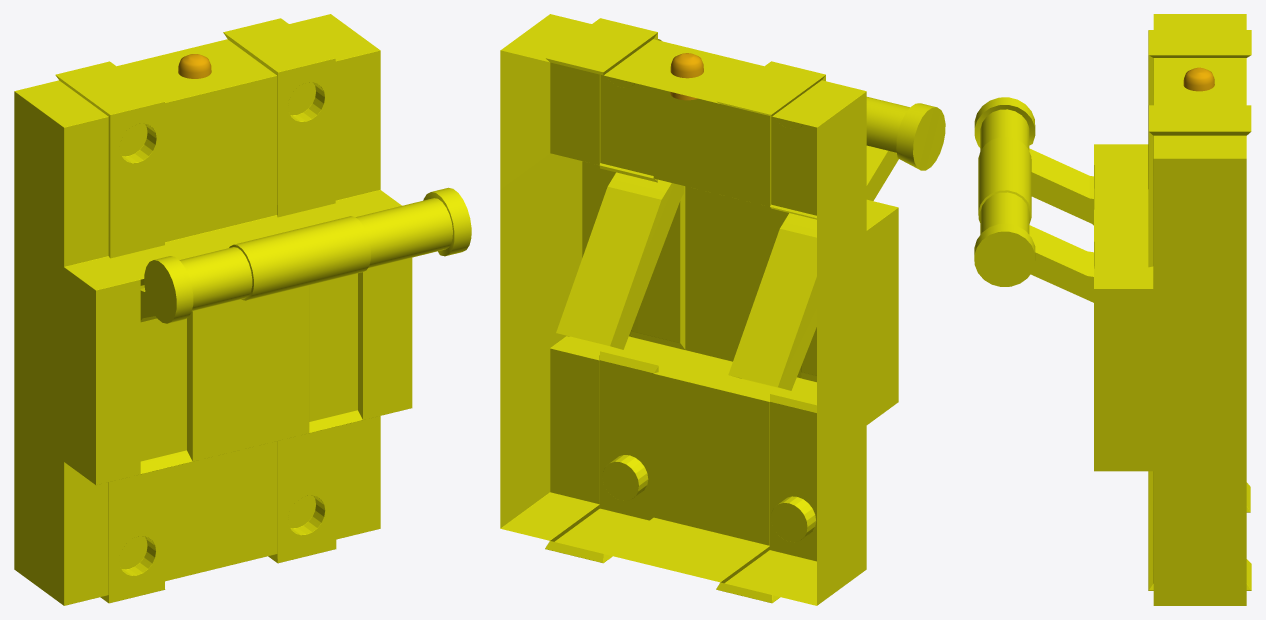
File: Circuit 2.fbx
3 views of the same model, side by side, from view 1: azimuth 30°, elevation 25°; view 2: azimuth 150°, elevation 25°; view 3: azimuth 270°, elevation 25° (orthographic). The views are drawn at different scales.
Parts seen in each view (by area): view 1: CircuitBreaker2, CircuitHandle; view 2: CircuitBreaker2, CircuitHandle; view 3: CircuitBreaker2, CircuitHandle.
Part boxes in pixels (x1=…): CircuitBreaker2: x1=14, y1=14, x2=412, y2=605; CircuitHandle: x1=140, y1=187, x2=471, y2=323; CircuitBreaker2: x1=500, y1=14, x2=898, y2=605; CircuitHandle: x1=556, y1=39, x2=945, y2=390; CircuitBreaker2: x1=1094, y1=14, x2=1251, y2=605; CircuitHandle: x1=974, y1=97, x2=1093, y2=302.
Size of the model in its own units: 0.4146 by 0.6267 by 0.3364.
